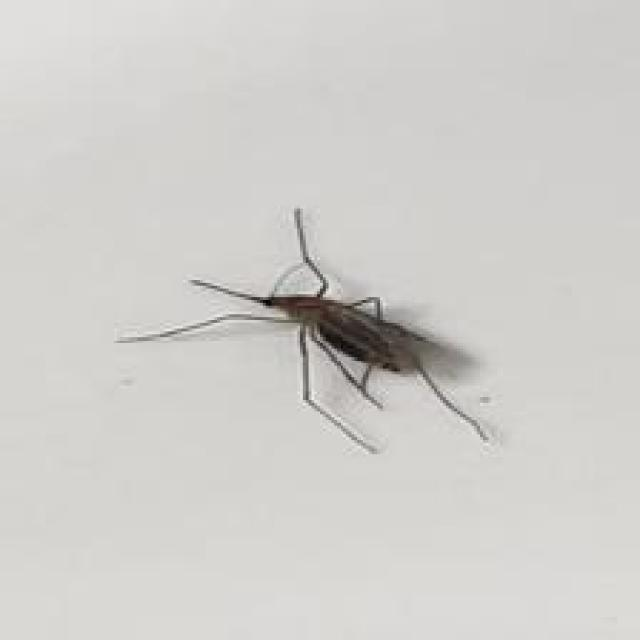Culex: (114, 204, 494, 456)
